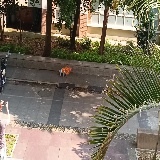fire: (61, 66, 72, 74)
